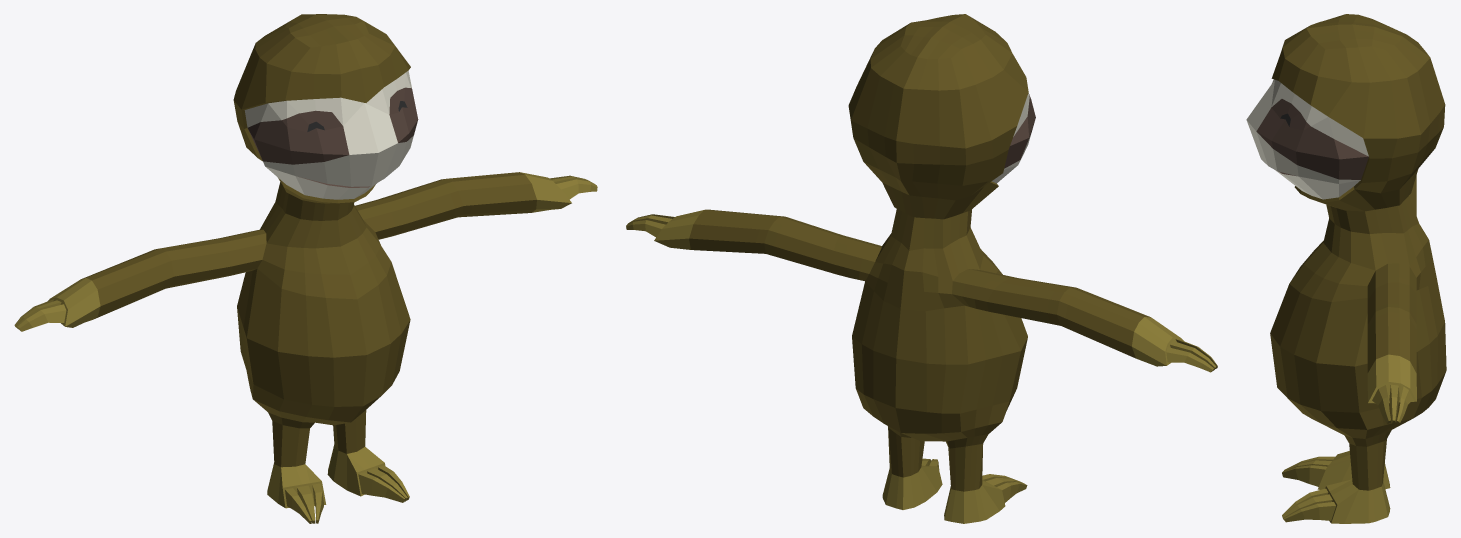
File: Sloth.glb
The picture shows the model from 3 angles, left to right: view 1: azimuth 30°, elevation 25°; view 2: azimuth 150°, elevation 25°; view 3: azimuth 270°, elevation 25°; orthographic projection.
Parts seen in each view (by area): view 1: Cube; view 2: Cube; view 3: Cube.
Boxes of the visible parts, <box> form: Cube: <box>14,14,597,523</box>; Cube: <box>626,14,1217,523</box>; Cube: <box>1246,14,1446,523</box>.
Bounding box in the file's own units: 3.17 × 2.45 × 0.9378.
